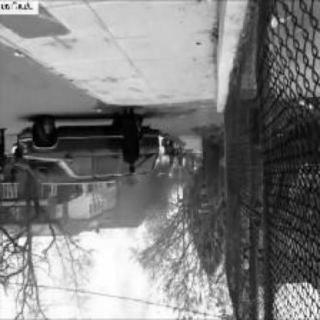Fire: (152, 136, 175, 177)
